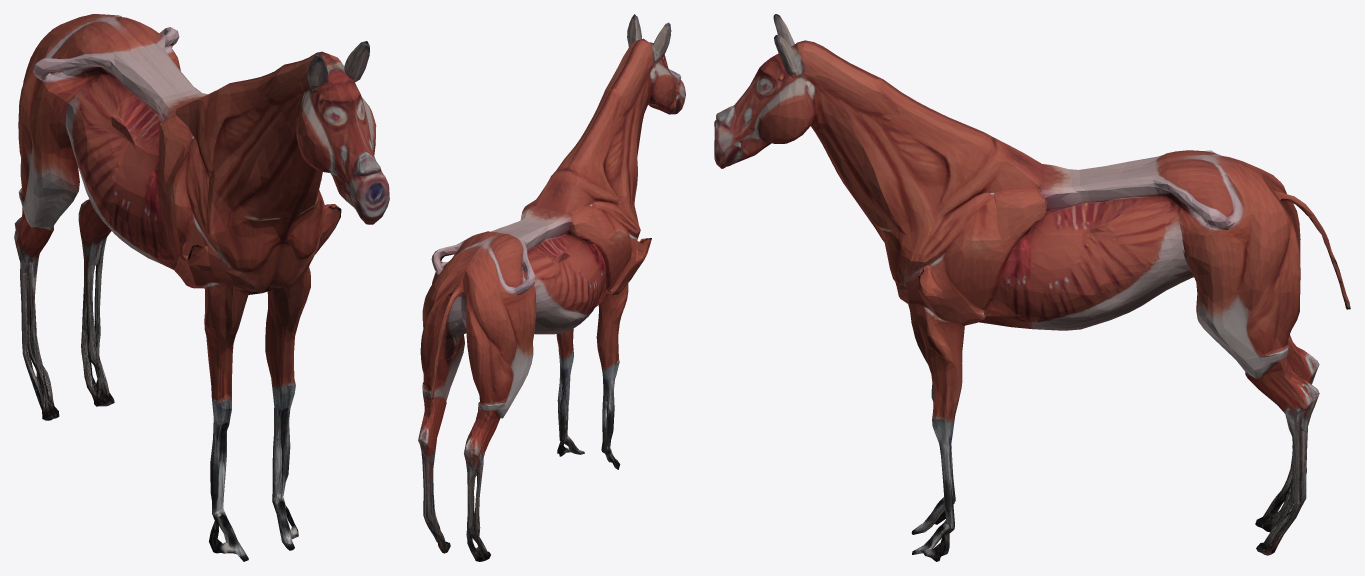
The model's file is sistema_muscular.glb.
3 renders of one model, left to right at view 1: azimuth 30°, elevation 25°; view 2: azimuth 150°, elevation 25°; view 3: azimuth 270°, elevation 25°, orthographic. The views are drawn at different scales.
Parts seen in each view (by area): view 1: world; view 2: world; view 3: world.
Part boxes in pixels (x1,y1,x2,y2): world: (14, 14, 389, 561); world: (418, 14, 685, 561); world: (714, 14, 1350, 561).
Size of the model in its own units: 0.2553 by 0.9028 by 1.
1 material, 1 textured.
